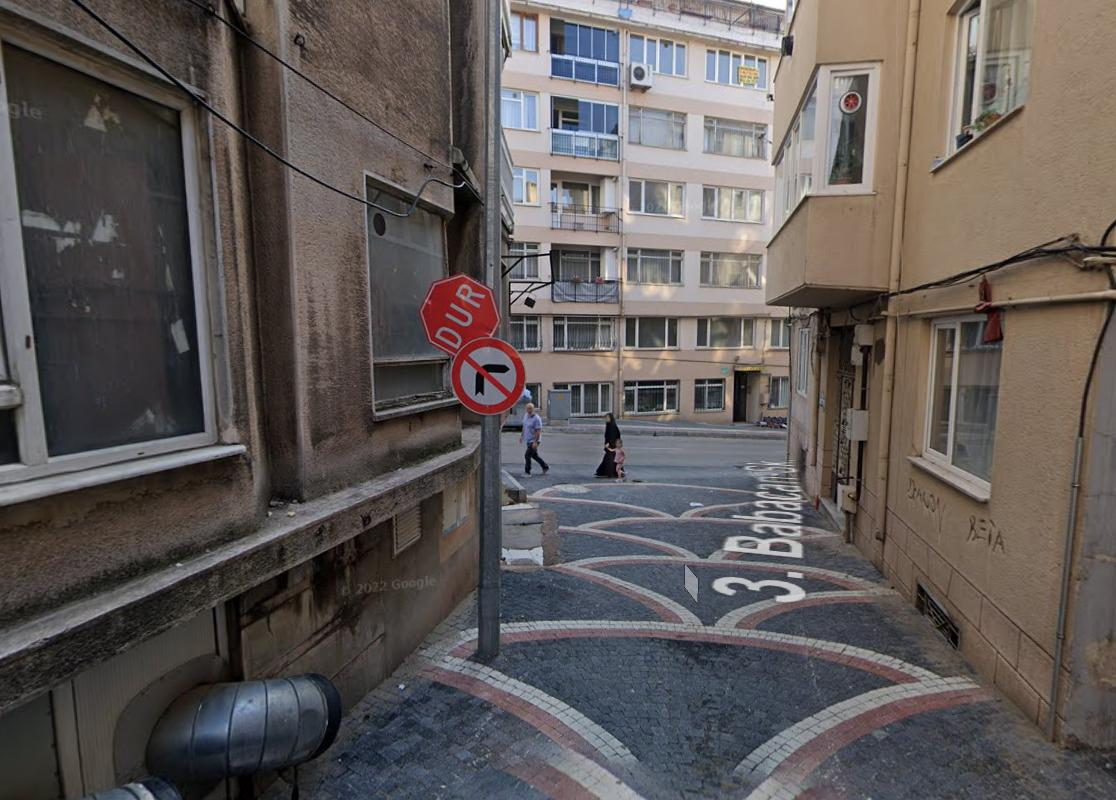rightturnsareforbidden: (448, 336, 524, 416)
